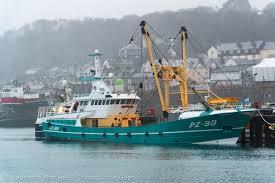Ship: (36, 22, 255, 145)
